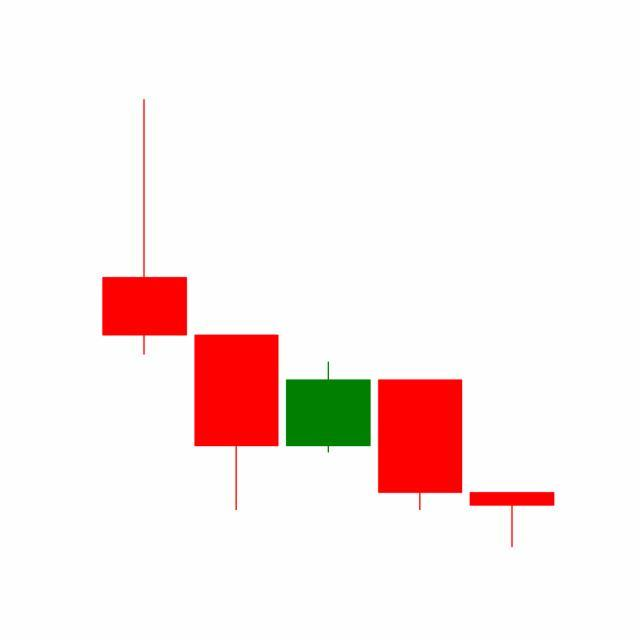Hammer: (466, 492, 559, 549)
